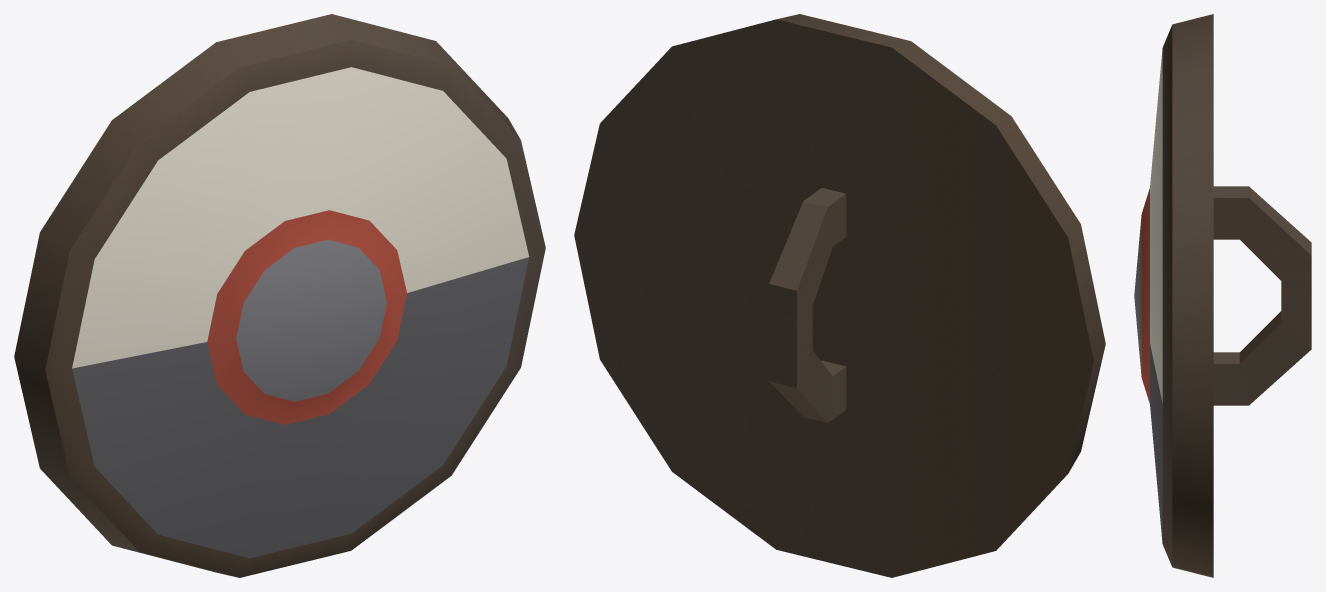
Rendered from Shield_4.fbx.
The picture shows the model from 3 angles, left to right: view 1: azimuth 30°, elevation 25°; view 2: azimuth 150°, elevation 25°; view 3: azimuth 270°, elevation 25°; orthographic projection. The views are drawn at different scales.
Visible parts, largest first — view 1: pCube807; view 2: pCube807; view 3: pCube807.
Part boxes in pixels (x1,y1,x2,y2): pCube807: (14, 14, 545, 577); pCube807: (574, 14, 1105, 577); pCube807: (1134, 14, 1311, 577).
Size of the model in its own units: 126 by 123 by 38.78.
